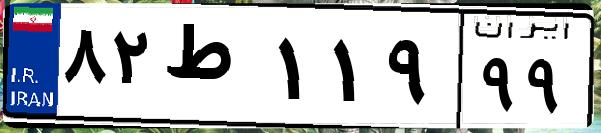1: (270, 28, 330, 110), (330, 28, 385, 110)
2: (110, 28, 158, 98)
8: (57, 26, 110, 100)
9: (385, 28, 445, 110), (475, 38, 525, 113), (525, 38, 570, 115)
ط: (158, 20, 270, 120)
